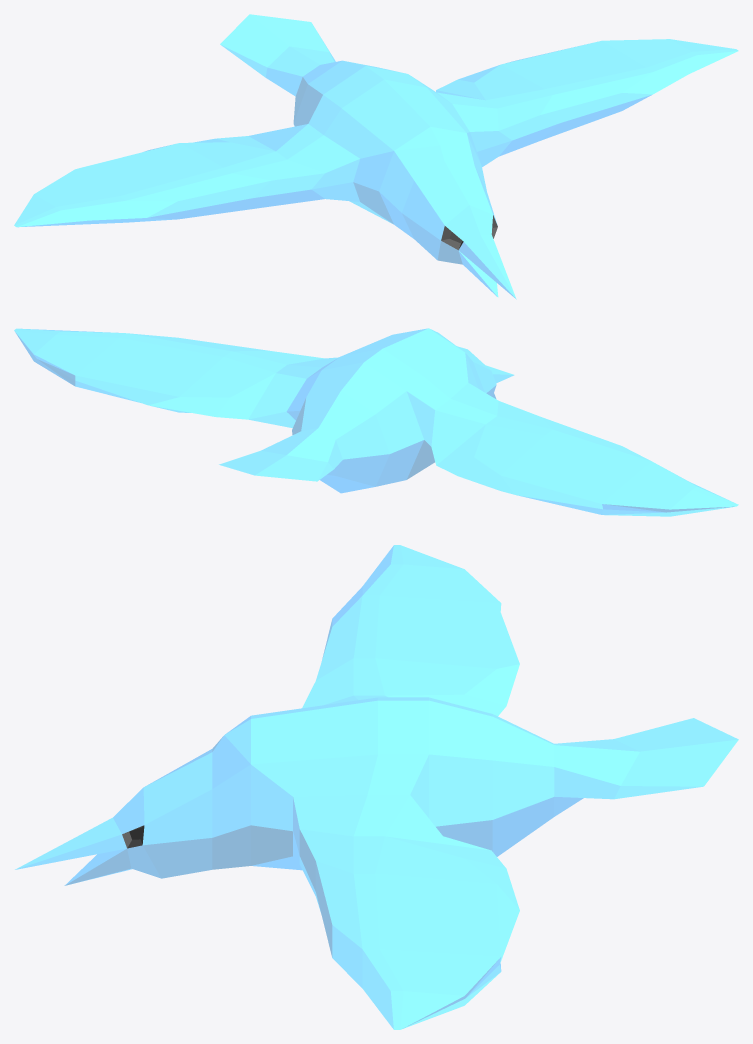
The model's file is ice_bird_full_unbroken.glb.
3 renders of one model, top to bottom at view 1: azimuth 30°, elevation 25°; view 2: azimuth 150°, elevation 25°; view 3: azimuth 270°, elevation 25°, orthographic. The views are drawn at different scales.
Parts seen in each view (by area): view 1: IceBird Replica; view 2: IceBird Replica; view 3: IceBird Replica.
Boxes of the visible parts, box(x1,y1,x2,y2) form: IceBird Replica: box(14, 14, 738, 299); IceBird Replica: box(14, 328, 738, 516); IceBird Replica: box(15, 545, 738, 1029).
Size of the model in its own units: 12.02 by 2.14 by 7.6.
